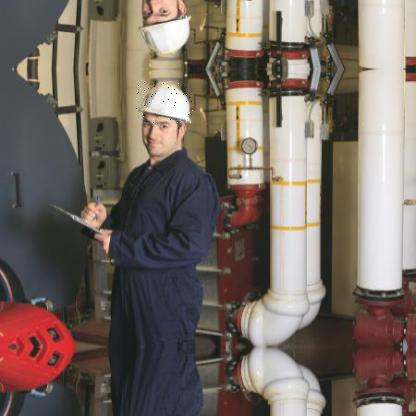safetyhelmet: (136, 82, 194, 124)
